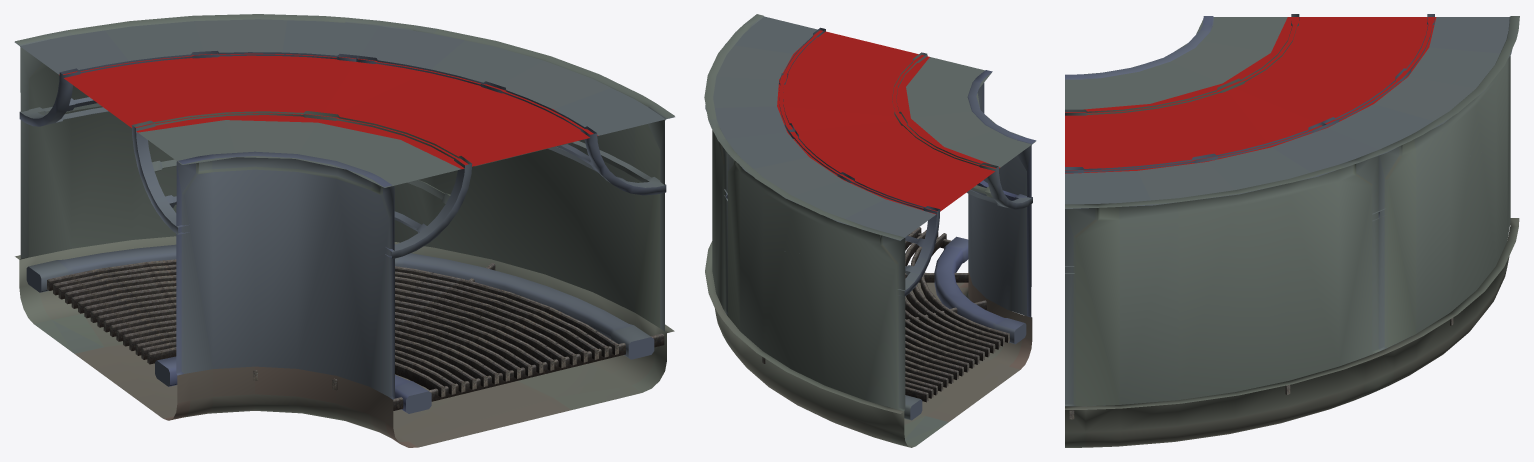
Rendered from maintenance_tunnel_turn_plain.dae.
3 renders of one model, left to right at view 1: azimuth 30°, elevation 25°; view 2: azimuth 150°, elevation 25°; view 3: azimuth 270°, elevation 25°, orthographic. The views are drawn at different scales.
Visible parts, largest first — view 1: tunnel_turn__2_, grate__2_; view 2: tunnel_turn__2_, grate__2_; view 3: tunnel_turn__2_.
Part boxes in pixels (<box>): tunnel_turn__2_: <box>14,14,674,447</box>; grate__2_: <box>47,259,664,410</box>; tunnel_turn__2_: <box>704,14,1036,447</box>; grate__2_: <box>762,227,1009,402</box>; tunnel_turn__2_: <box>1065,14,1519,447</box>.
Size of what is drawn, in the model's own units: 3.06 by 1.89 by 3.06.
